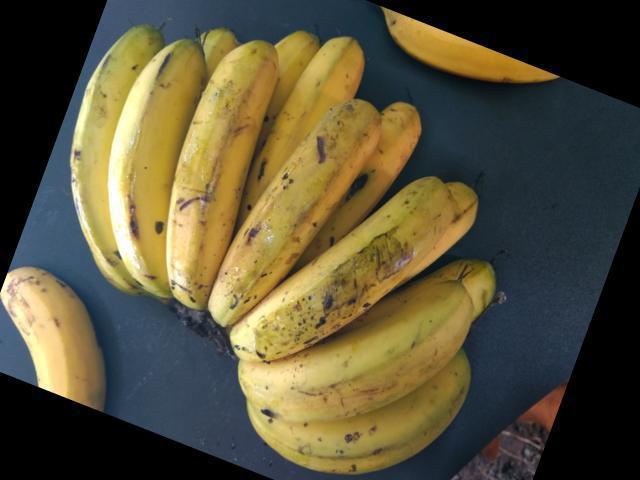ripe: (212, 166, 454, 358), (205, 90, 389, 317), (141, 44, 284, 304), (205, 291, 485, 408), (95, 41, 210, 307), (230, 357, 479, 466), (66, 20, 159, 306), (0, 255, 130, 409)
